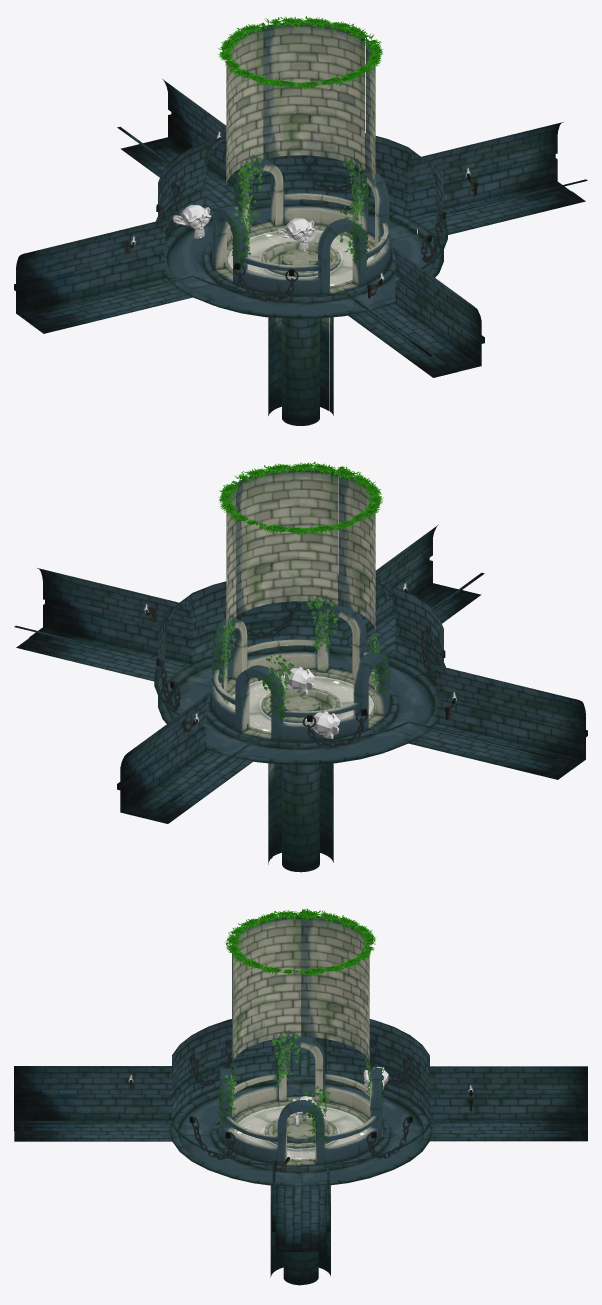
Rendered from mitch_level_v2.glb.
The picture shows the model from 3 angles, top to bottom: view 1: azimuth 30°, elevation 25°; view 2: azimuth 150°, elevation 25°; view 3: azimuth 270°, elevation 25°; orthographic projection. The views are drawn at different scales.
Parts seen in each view (by area): view 1: Object_16, Object_6, Object_12, Object_26, Object_50, Object_54, Object_18, Object_44, Object_28, Object_74, player_spawn, strength_disk; view 2: Object_16, Object_6, Object_12, Object_50, Object_18, Object_54, Object_26, Object_44, Object_28, Object_74, player_spawn, flight_disk; view 3: Object_16, Object_26, Object_50, Object_12, Object_44, Object_54, Object_18, Object_6, Object_28, Object_74.
Part boxes in pixels (x1,y1,x2,y2): Object_16: (14, 22, 587, 415); Object_6: (282, 250, 319, 425); Object_12: (212, 159, 389, 294); Object_26: (211, 206, 390, 295); Object_50: (218, 16, 383, 89); Object_54: (225, 154, 371, 272); Object_18: (224, 161, 376, 285); Object_44: (228, 230, 373, 285); Object_28: (233, 193, 388, 271); Object_74: (160, 162, 441, 301); player_spawn: (277, 218, 315, 251); strength_disk: (173, 208, 211, 238); Object_16: (14, 468, 587, 864); Object_6: (282, 695, 319, 872); Object_12: (224, 607, 377, 732); Object_50: (218, 462, 383, 535); Object_18: (213, 605, 388, 740); Object_54: (211, 593, 390, 728); Object_26: (212, 652, 389, 741); Object_44: (228, 676, 373, 731); Object_28: (213, 639, 367, 717); Object_74: (161, 608, 440, 747); player_spawn: (278, 667, 314, 694); flight_disk: (301, 711, 340, 738); Object_16: (14, 915, 587, 1277); Object_26: (223, 1085, 379, 1163); Object_50: (225, 908, 376, 976); Object_12: (220, 1037, 381, 1164); Object_44: (234, 1106, 367, 1159); Object_54: (218, 1030, 383, 1152); Object_18: (220, 1037, 381, 1164); Object_6: (283, 1123, 318, 1285); Object_28: (224, 1073, 377, 1141); Object_74: (193, 1052, 408, 1159).
Bounding box in the file's own units: 40 × 26.15 × 39.99.
5 materials, 5 textured.
